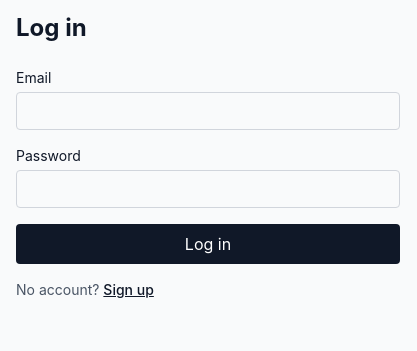
Test: LoginPage › shows an error message on failed login without navigating
Type "a@berea.edu" into the field labelled "Email". click: (208, 111)
box: [16,92,400,130]
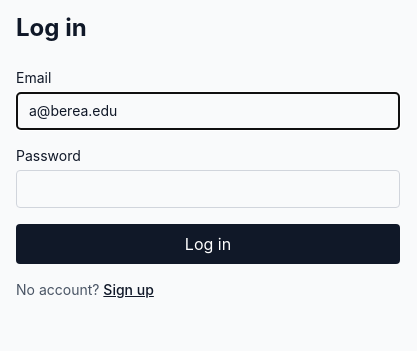
Type "wrong" into the password field labelled "Password". click: (208, 189)
box: [16,170,400,208]
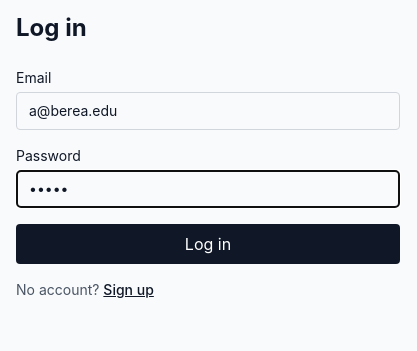
Click the button "Log in". click: (208, 244)
box: [16,224,400,264]
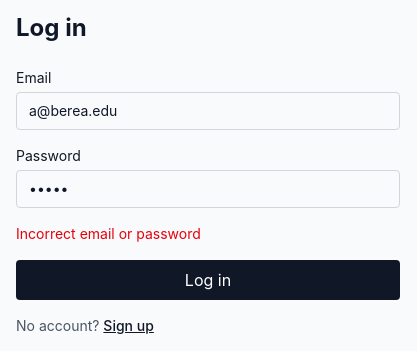
Result: the text "Incorrect email or password" is shown at [16,225,201,242]
